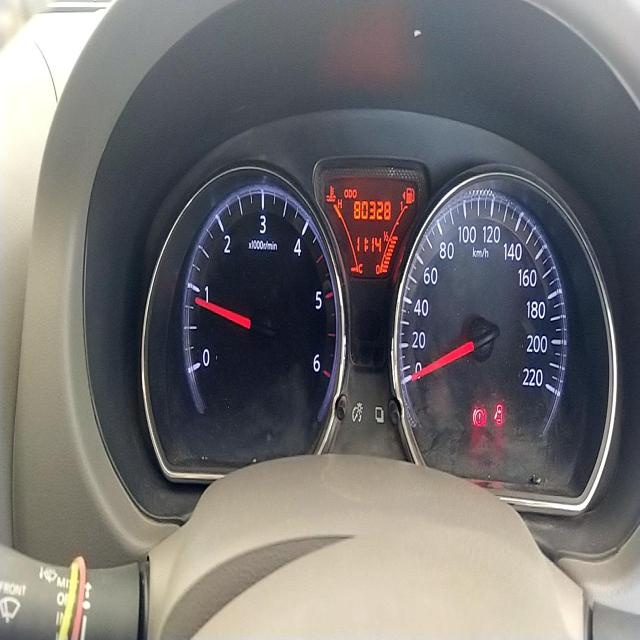odometer: (351, 196, 392, 222)
